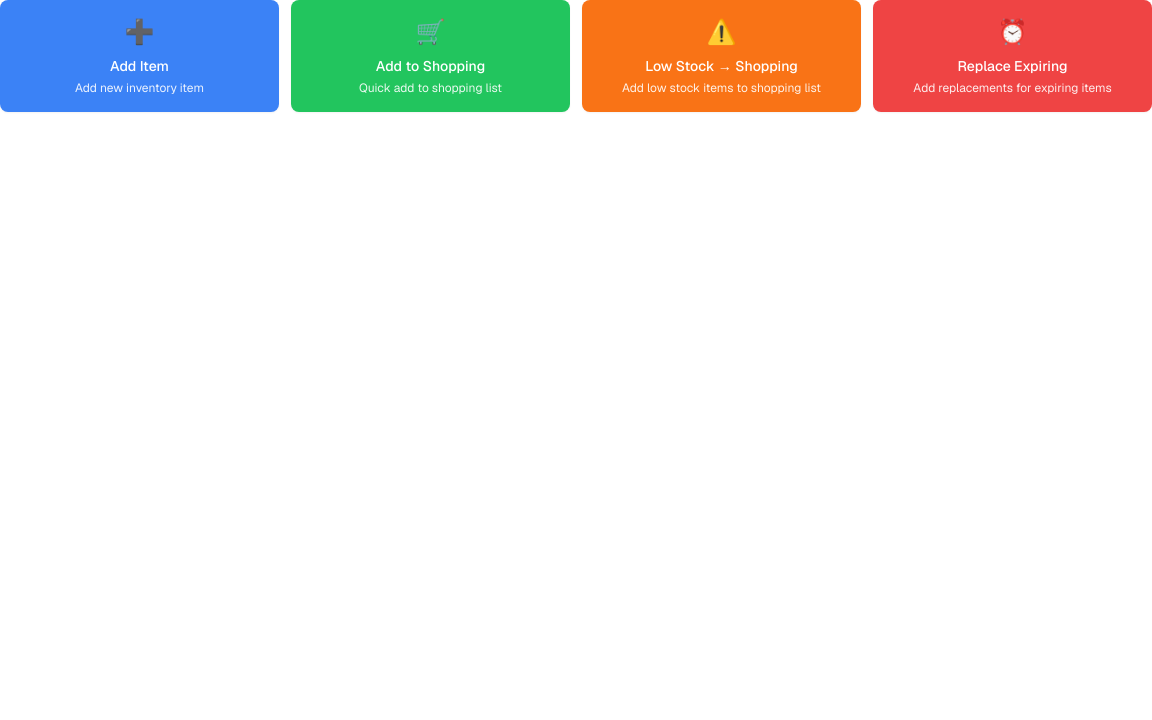
QuickActionsPanel › QuickAddItemForm › closes modal on cancel
This screenshot has width=1152, height=720.
What coordinates should you click on to do the following:
click the text "Add Item"
I would click on:
 (139, 66)
Its box is [110,57,169,75].
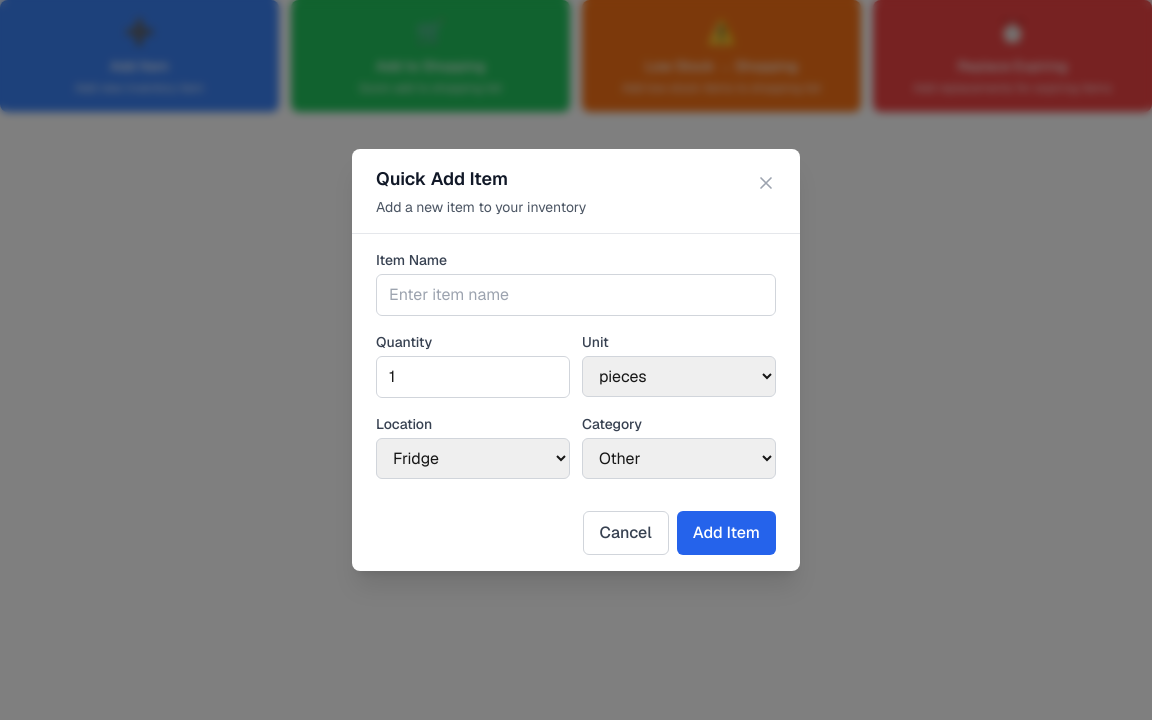
Expected: the heading "Quick Add Item" is shown, [376,167,508,190]
What coordinates should you click on to do the following:
click the button "Cancel"
I would click on:
 (626, 533)
Its box is [583,511,669,555].
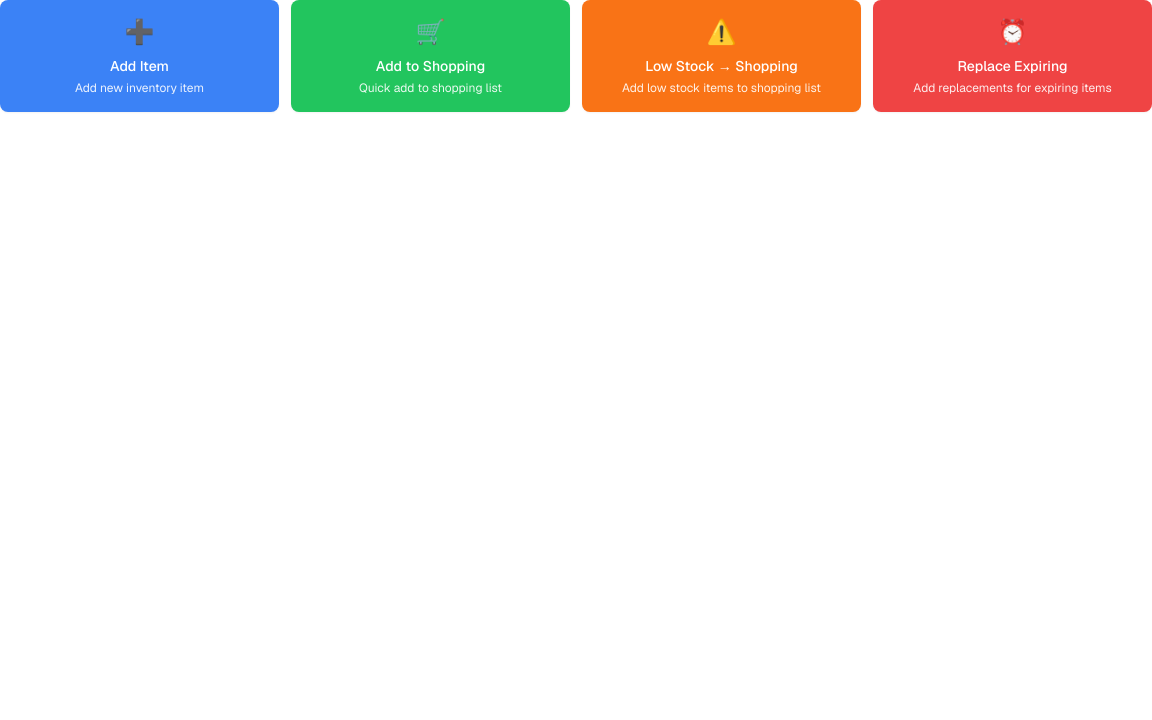
Expected: the heading "Quick Add Item" is gone
